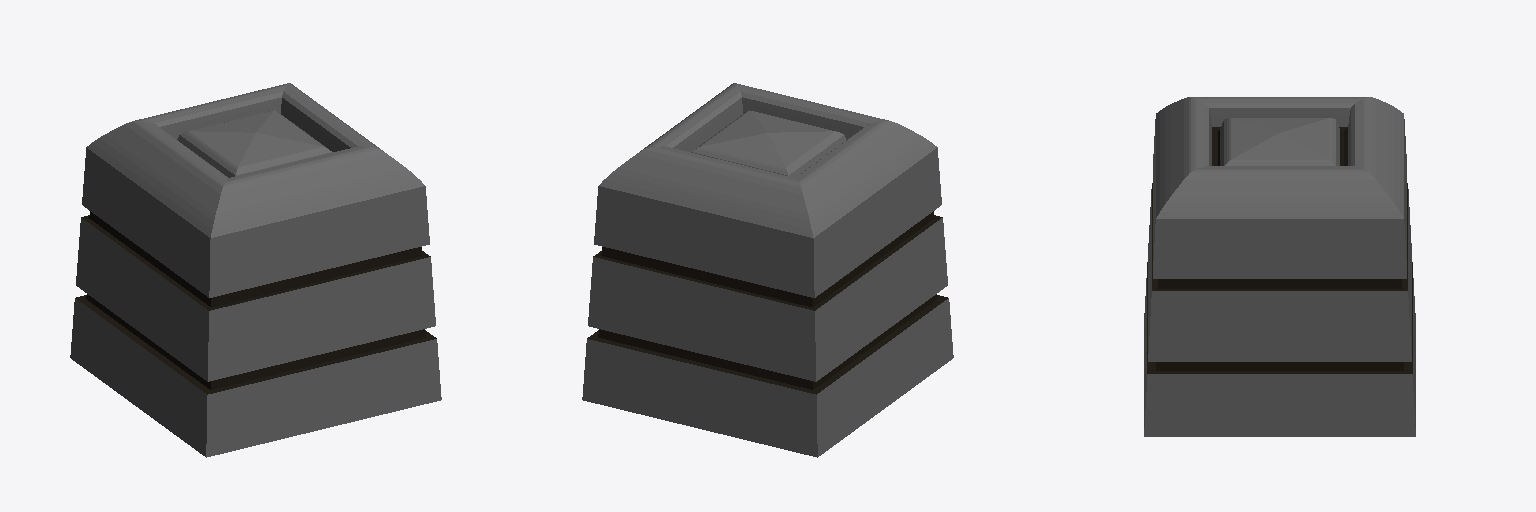
File: Pillar.obj
The picture shows the model from 3 angles: view 1: azimuth 30°, elevation 25°; view 2: azimuth 150°, elevation 25°; view 3: azimuth 270°, elevation 25°; orthographic projection.
Parts seen in each view (by area): view 1: Cube_Cube.001; view 2: Cube_Cube.001; view 3: Cube_Cube.001.
Part boxes in pixels (x1,y1,x2,y2): Cube_Cube.001: (70,83,441,457); Cube_Cube.001: (582,83,953,457); Cube_Cube.001: (1144,97,1415,436).
Bounding box in the file's own units: 1 × 1 × 1.